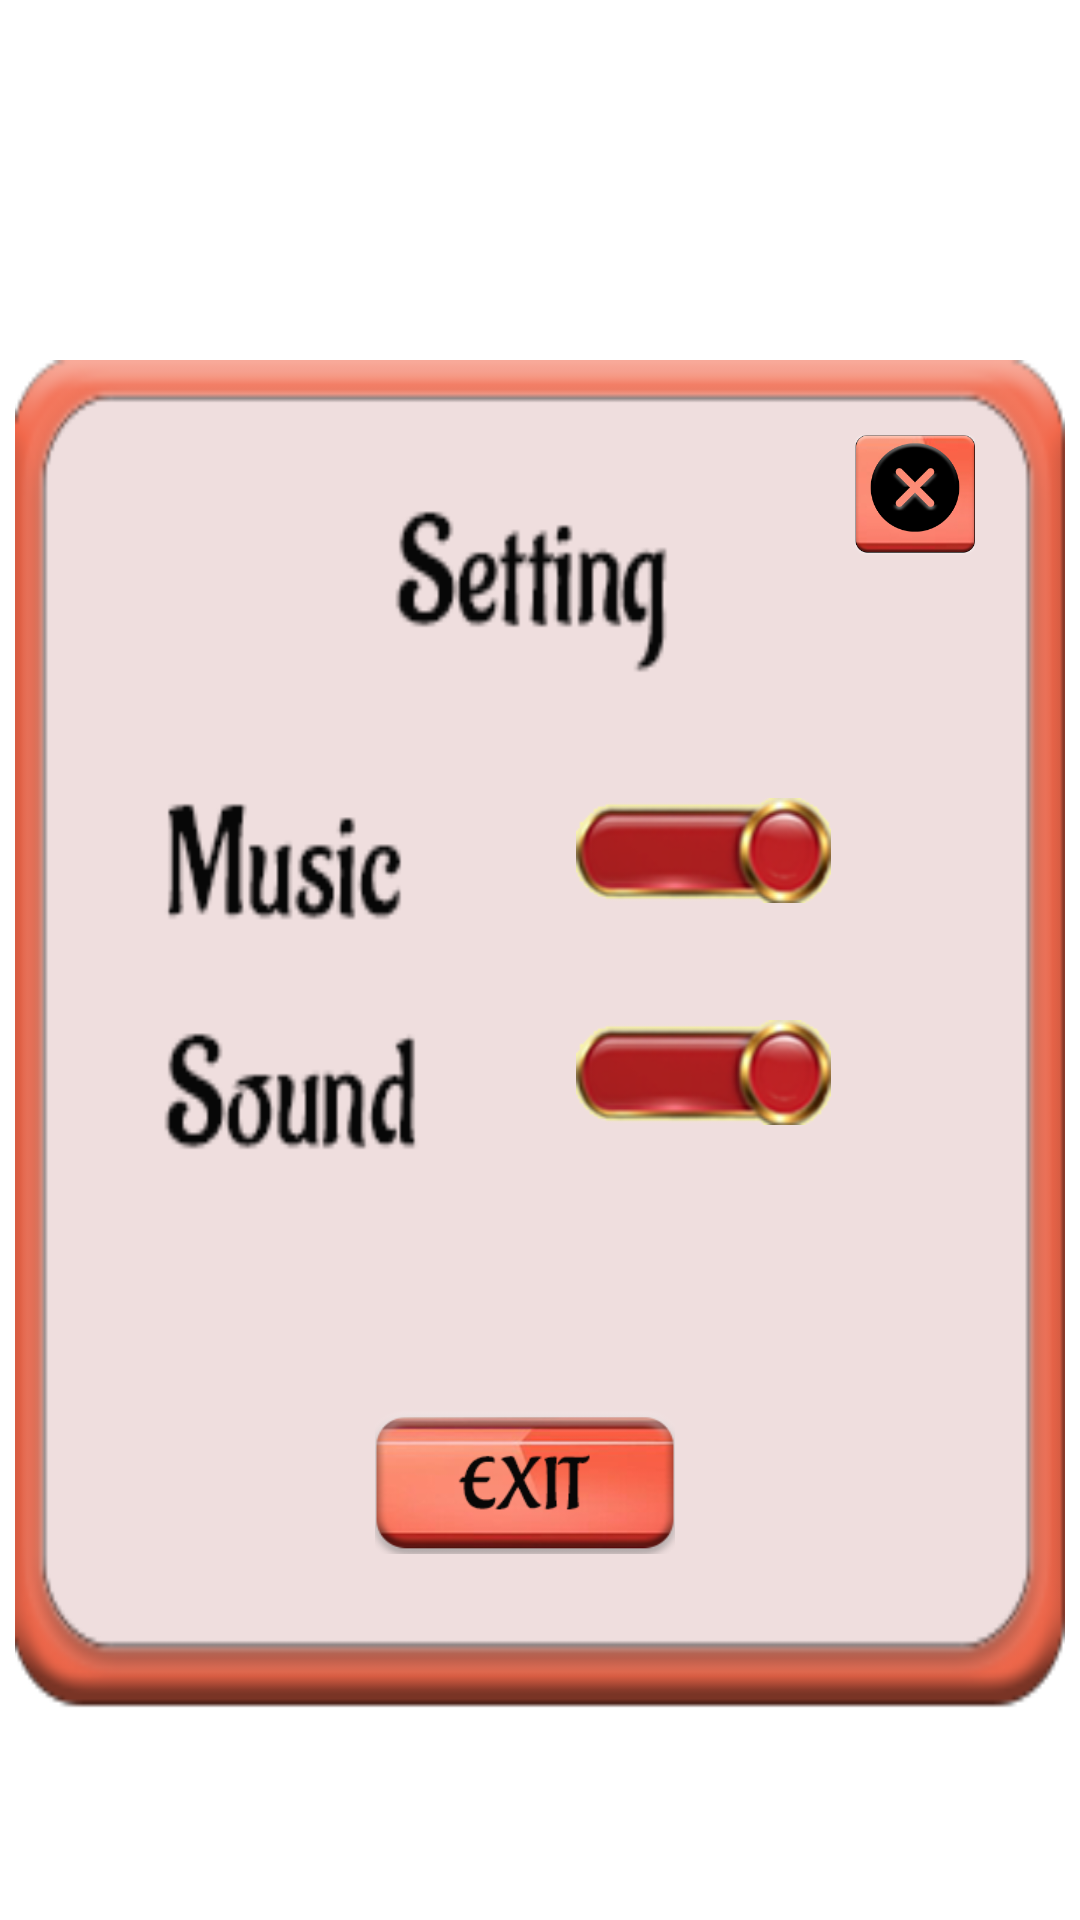

Screen size 1080px×1920px. Icon name, then its center in pixels as (x=x, y=y):
close: (x=915, y=494)
music on: (x=703, y=850)
sounds on: (x=703, y=1072)
